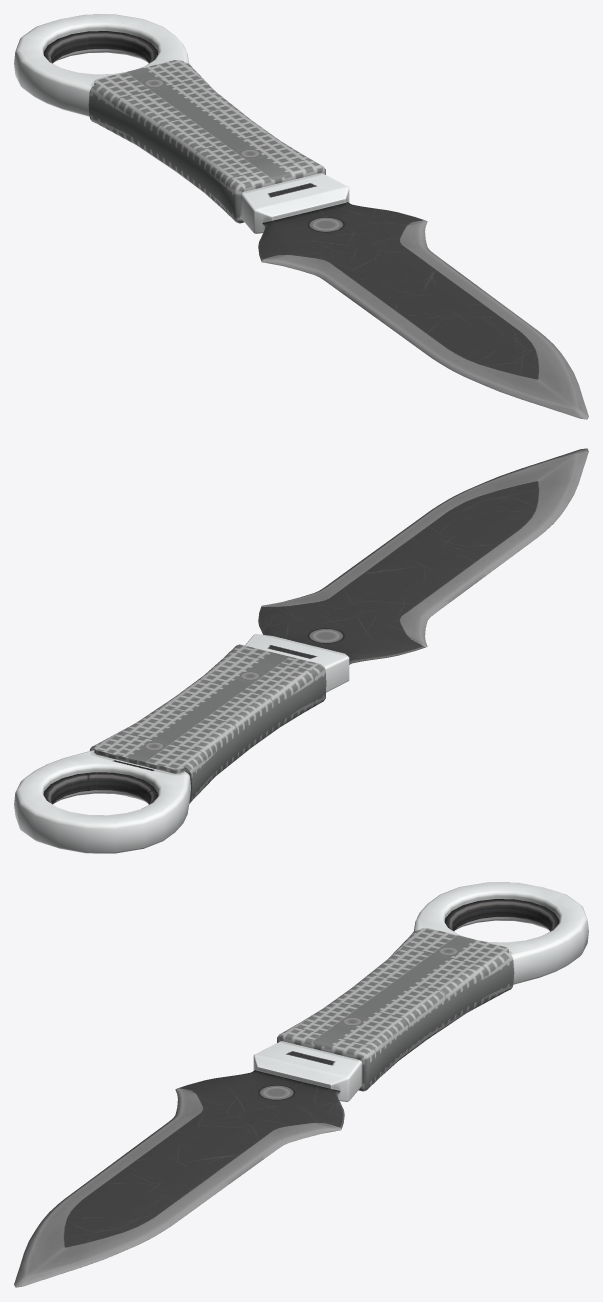
File: MeleePulseBlade01_1.FBX
The picture shows the model from 3 angles, top to bottom: view 1: azimuth 30°, elevation 25°; view 2: azimuth 150°, elevation 25°; view 3: azimuth 330°, elevation 25°; orthographic projection.
Visible parts, largest first — view 1: MeleePulseBlade01_1; view 2: MeleePulseBlade01_1; view 3: MeleePulseBlade01_1.
Boxes of the visible parts, x1,y1,x2,y2 form: MeleePulseBlade01_1: [14, 14, 588, 419]; MeleePulseBlade01_1: [14, 448, 588, 853]; MeleePulseBlade01_1: [14, 882, 588, 1287].
Size of what is drawn, in the model's own units: 0.0607 by 0.0135 by 0.3359.
